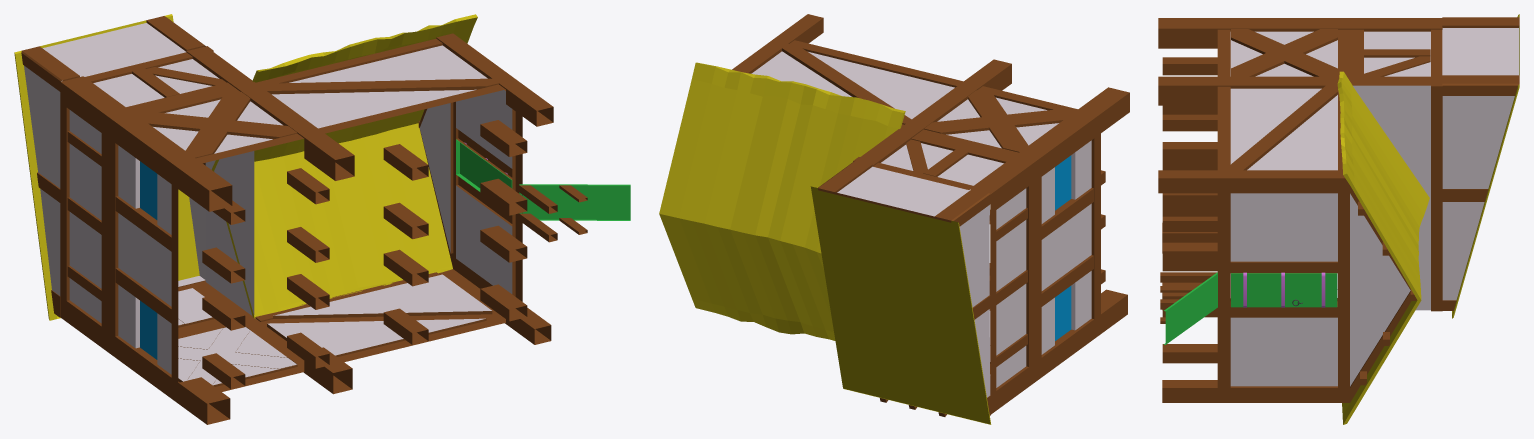
File: Storage.fbx
3 views of the same model, side by side, from view 1: azimuth 30°, elevation 25°; view 2: azimuth 150°, elevation 25°; view 3: azimuth 270°, elevation 25° (orthographic). The views are drawn at different scales.
Visible parts, largest first — view 1: Plane; view 2: Plane; view 3: Plane.
Part boxes in pixels (x1,y1,x2,y2): Plane: (14, 14, 630, 424); Plane: (659, 14, 1129, 424); Plane: (1158, 14, 1519, 424).
Size of the model in its own units: 997 by 598 by 759.
